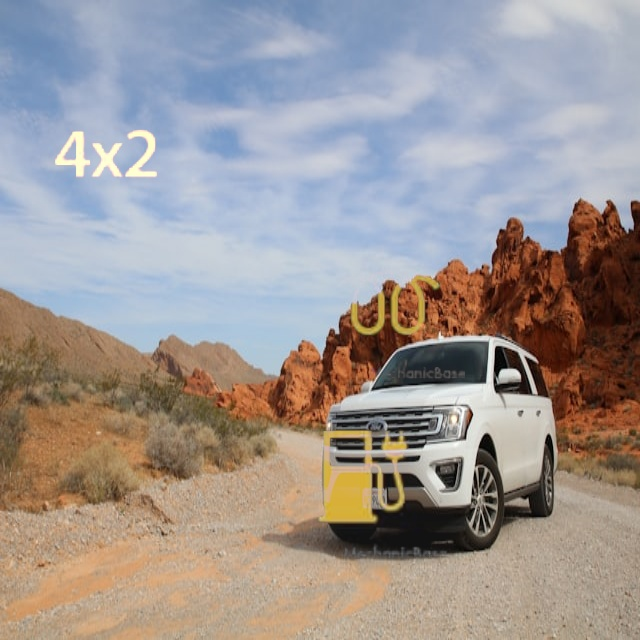symbol: (11, 61, 201, 251), (272, 387, 454, 569), (304, 219, 472, 387)
